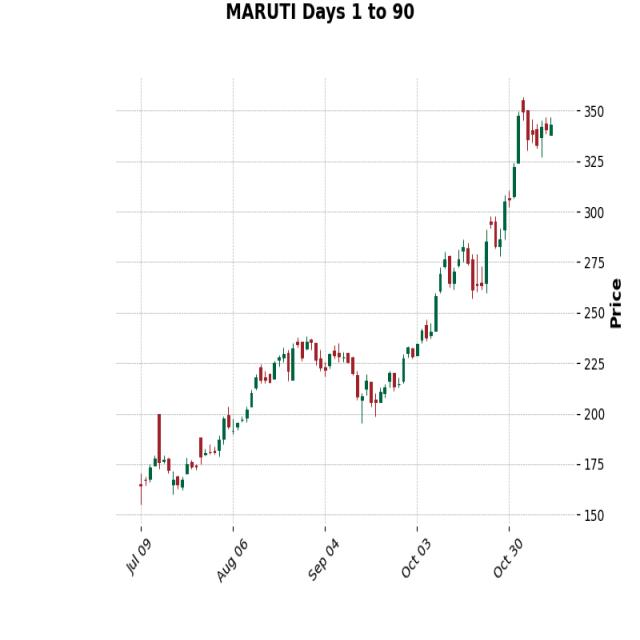Triple Bottom Reversal: (248, 323, 404, 442)
